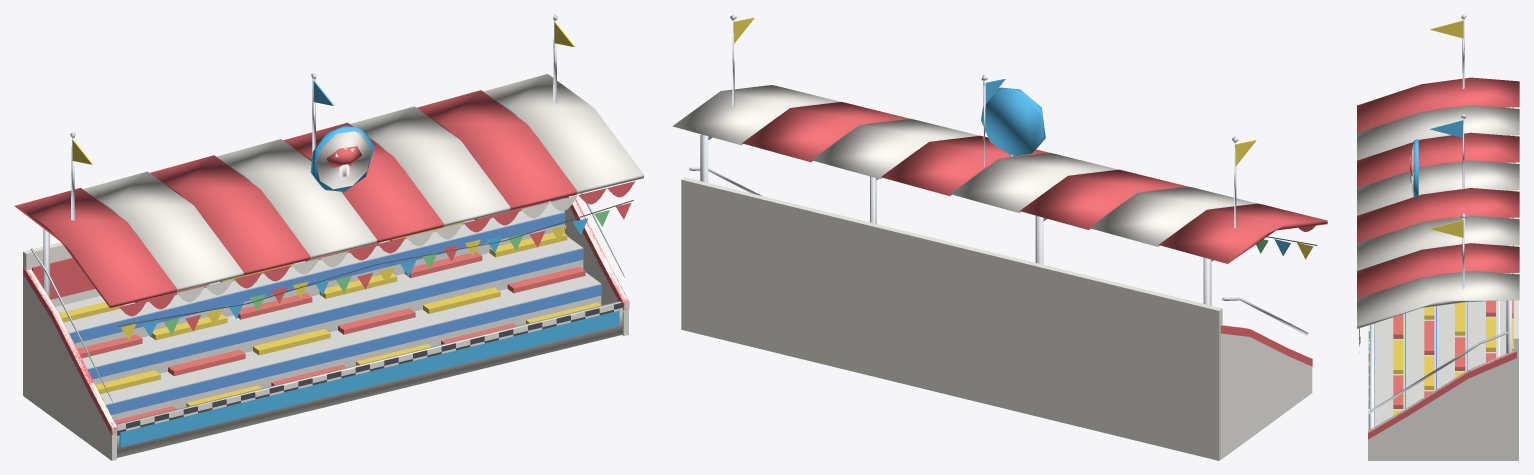
File: grandstand.glb
The picture shows the model from 3 angles, left to right: view 1: azimuth 30°, elevation 25°; view 2: azimuth 150°, elevation 25°; view 3: azimuth 270°, elevation 25°; orthographic projection. The views are drawn at different scales.
Parts seen in each view (by area): view 1: Grandstand; view 2: Grandstand; view 3: Grandstand.
Boxes of the visible parts, x1,y1,x2,y2 form: Grandstand: [14, 14, 643, 460]; Grandstand: [672, 14, 1327, 460]; Grandstand: [1357, 14, 1519, 460].
Size of the model in its own units: 18.6 by 9.45 by 5.82.
